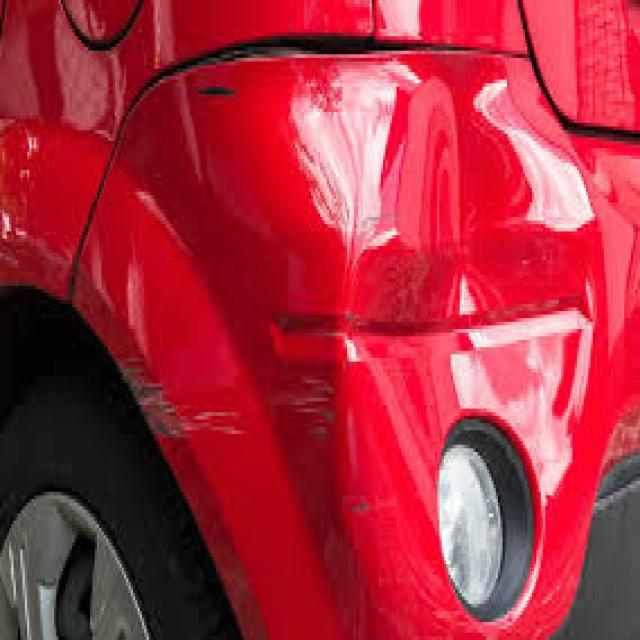minor: (286, 63, 597, 453)
